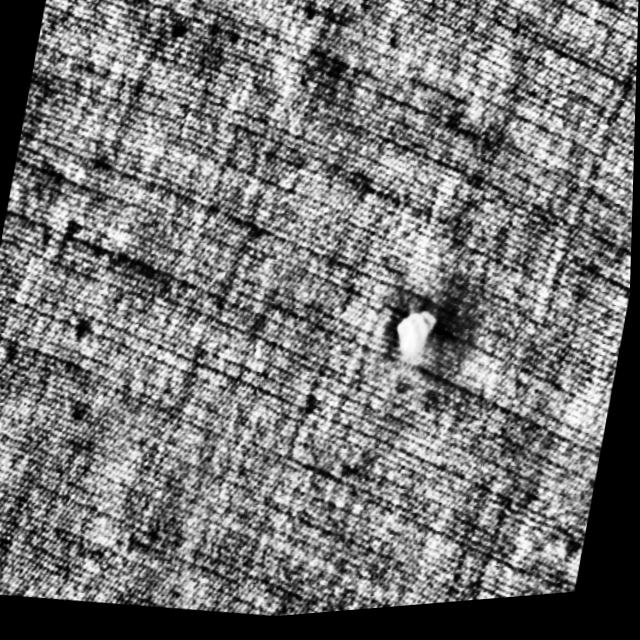Stitch: (390, 308, 443, 375)
